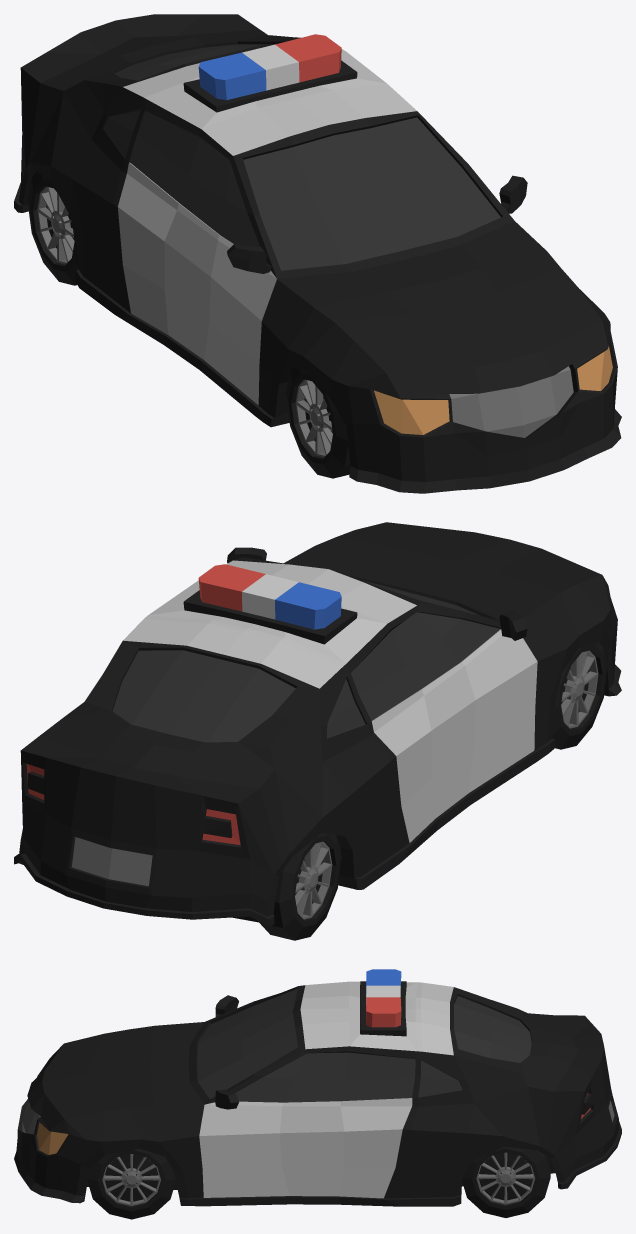
File: police-car.glb
3 views of the same model, one above another, from view 1: azimuth 30°, elevation 25°; view 2: azimuth 150°, elevation 25°; view 3: azimuth 270°, elevation 25° (orthographic). The views are drawn at different scales.
Parts seen in each view (by area): view 1: police-car; view 2: police-car; view 3: police-car.
Boxes of the visible parts, box(x1,y1,x2,y2) form: police-car: box(14, 14, 621, 493); police-car: box(14, 522, 621, 940); police-car: box(14, 969, 621, 1219).
Size of the model in its own units: 1.95 by 1.59 by 4.8.
